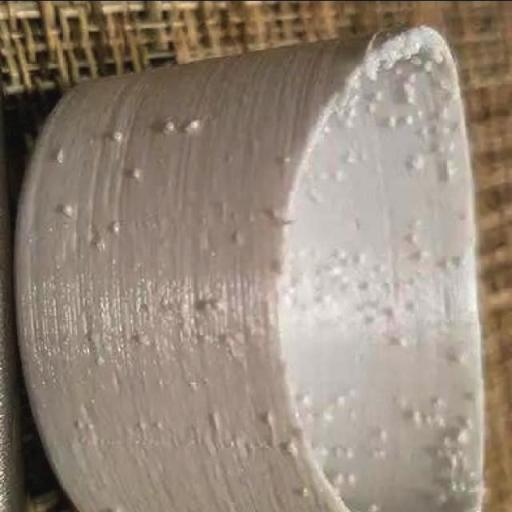blobs: (451, 426, 476, 451), (157, 117, 182, 137), (61, 197, 81, 222), (126, 160, 148, 182), (90, 235, 116, 253), (52, 144, 71, 168), (260, 407, 279, 431), (111, 125, 130, 147), (184, 118, 204, 138), (393, 333, 413, 351), (408, 54, 426, 74), (357, 273, 374, 293), (107, 218, 125, 236), (282, 438, 300, 456), (211, 293, 225, 316), (408, 407, 424, 427), (379, 114, 399, 130), (133, 330, 155, 344), (341, 443, 358, 461), (408, 152, 427, 168), (231, 228, 248, 245), (377, 427, 393, 445), (278, 152, 296, 168), (296, 480, 310, 500), (451, 253, 467, 270), (396, 112, 413, 126), (404, 234, 422, 244), (416, 247, 426, 263)
